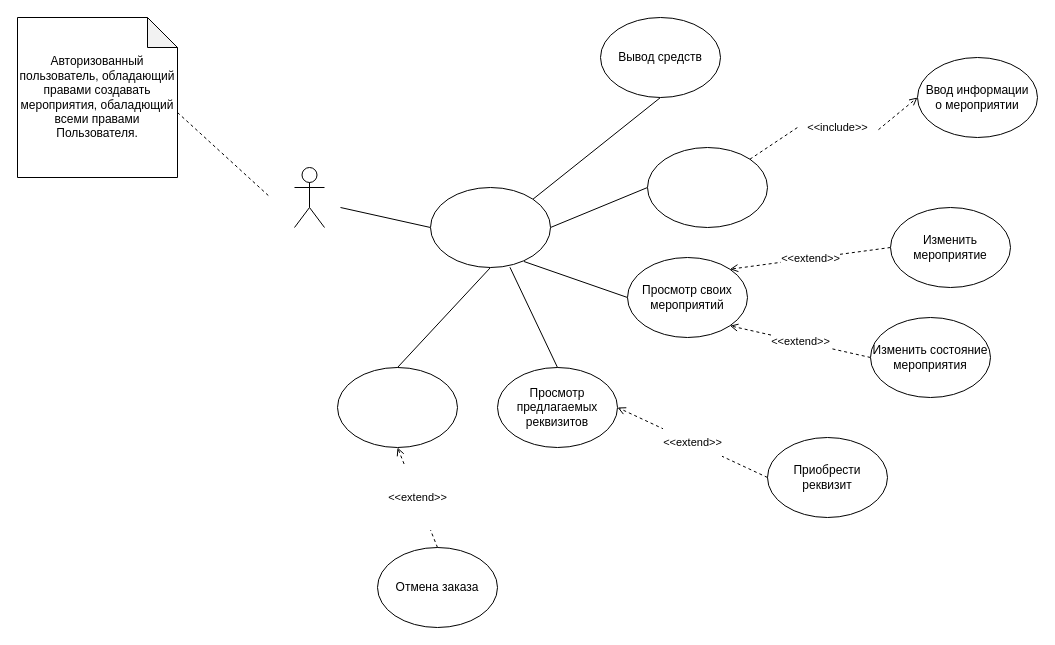
Some shapes in this 1055 by 645 pixel diagram are drawn without their labels. Each missing label, with the box of its shape:
Авторизация: (430, 186, 550, 268)
Организатор: (294, 166, 324, 228)
Просмотр приобретенных реквизитов: (336, 366, 458, 448)
Создать мероприятие: (646, 146, 768, 228)
